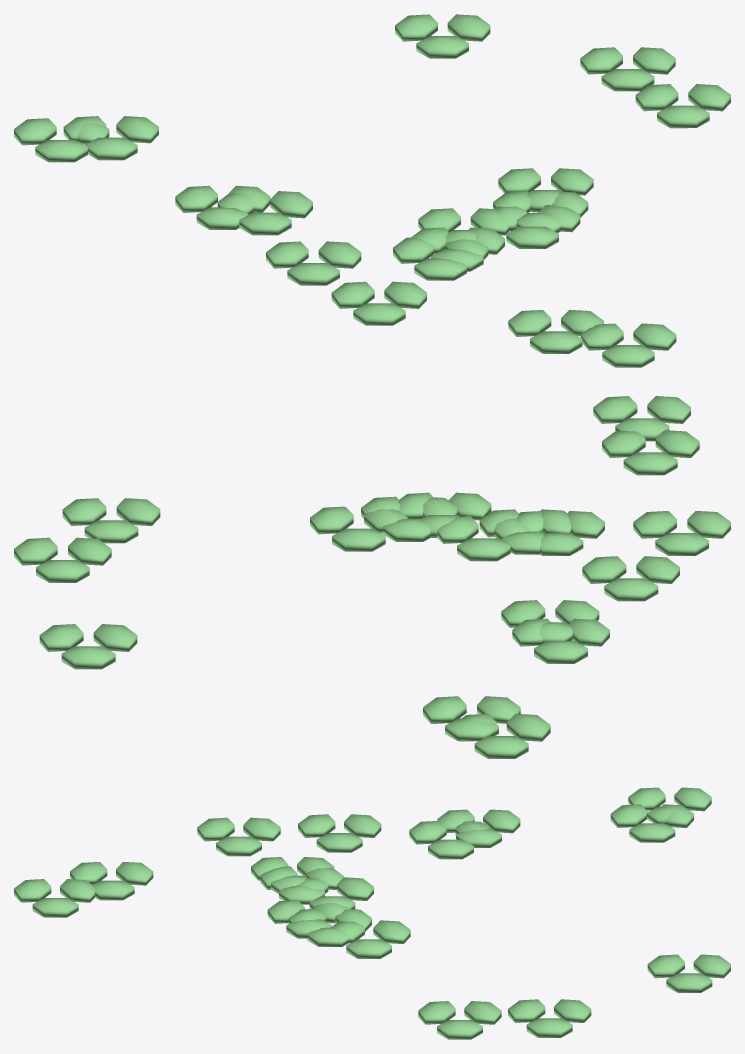
File: layer_summer_cluster_low.glb
3 views of the same model, one above another, from view 1: azimuth 30°, elevation 25°; view 2: azimuth 150°, elevation 25°; view 3: azimuth 270°, elevation 25° (orthographic). The views are drawn at different scales.
Bounding box in the file's own units: 1.31 × 0.035 × 1.62.
